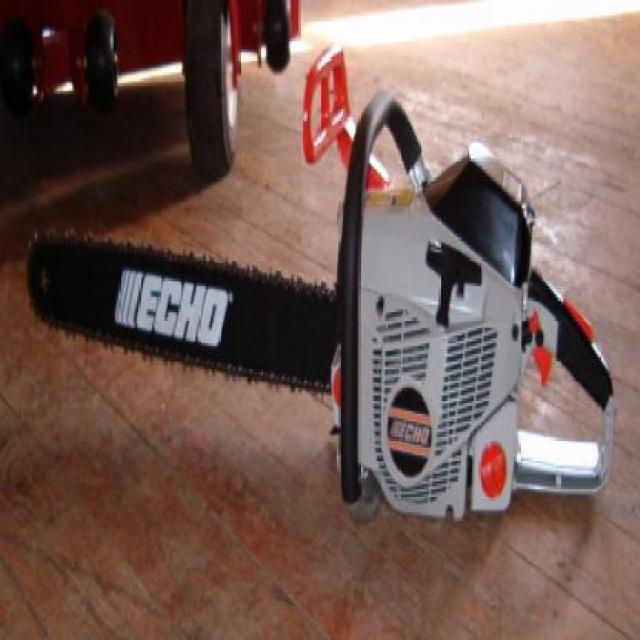Chainsaw: (23, 43, 619, 522)
